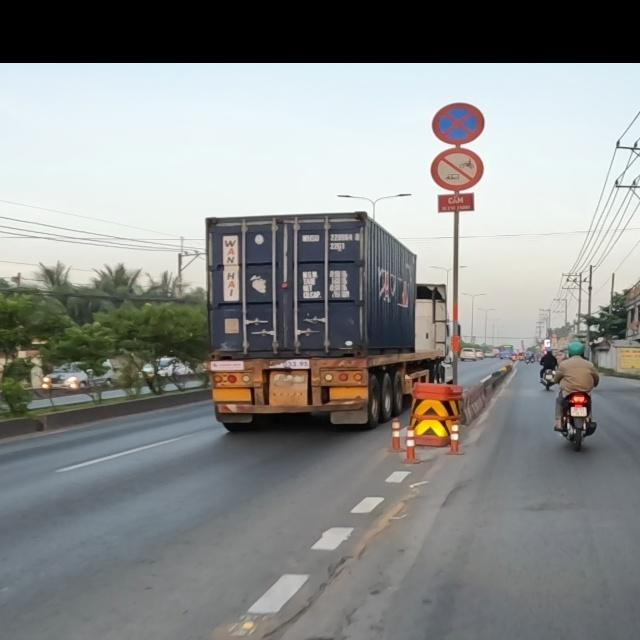license-plate: (568, 404, 588, 417)
